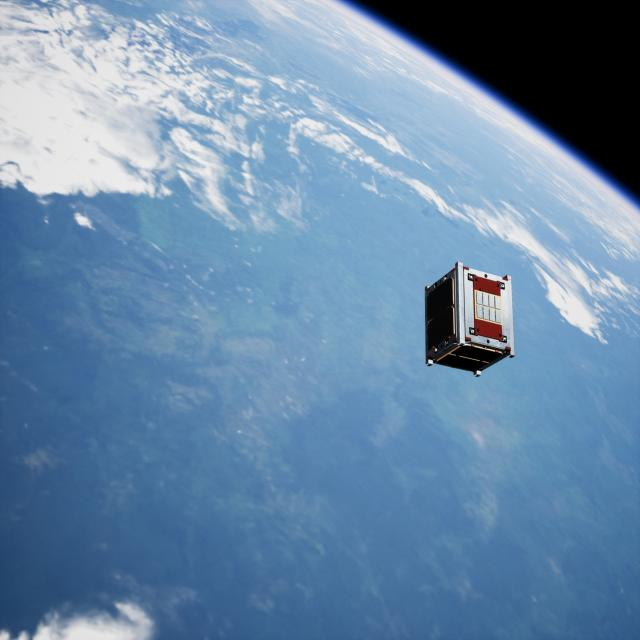satellite: (422, 263, 523, 375)
